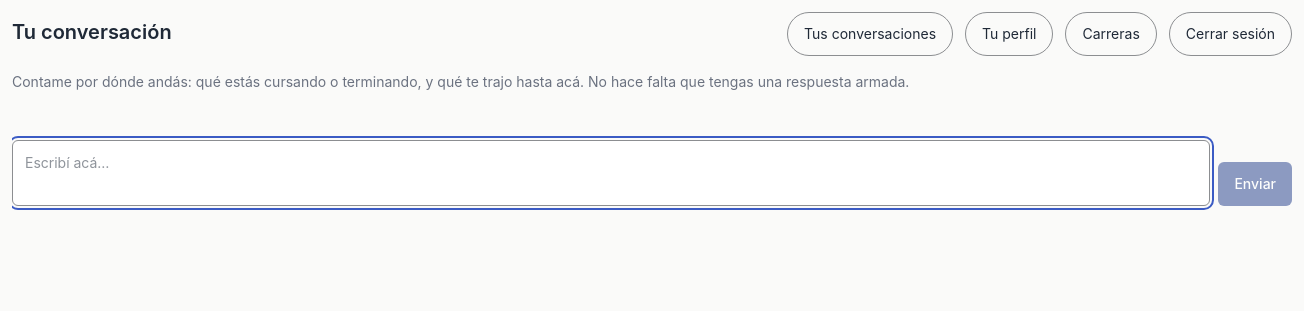
Conversacion · continuidad de la sesión (HU-07) › si la generación se corta, avisa y conserva lo que alcanzó a escribir
Step 1. Type "Hola" into the text box named "escribí tu mensaje" → (611,173), box [12, 140, 1210, 206]
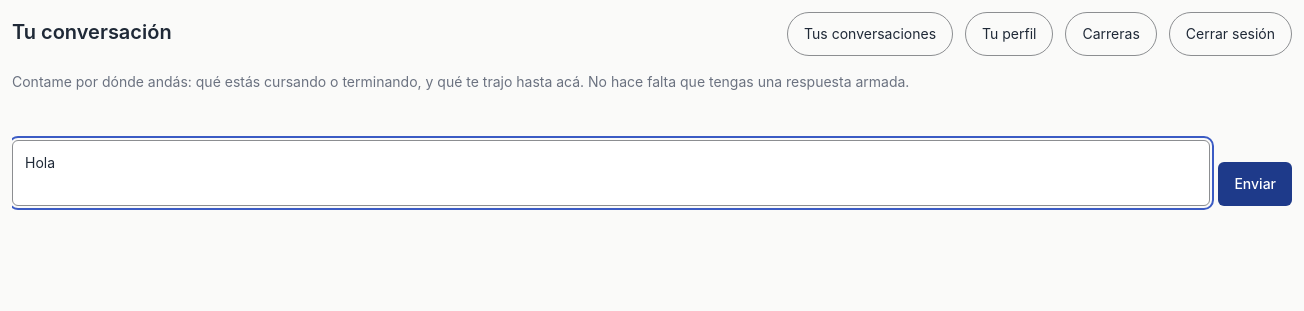
Step 2. Click the button "Enviar" → (1255,184), box [1218, 162, 1292, 206]
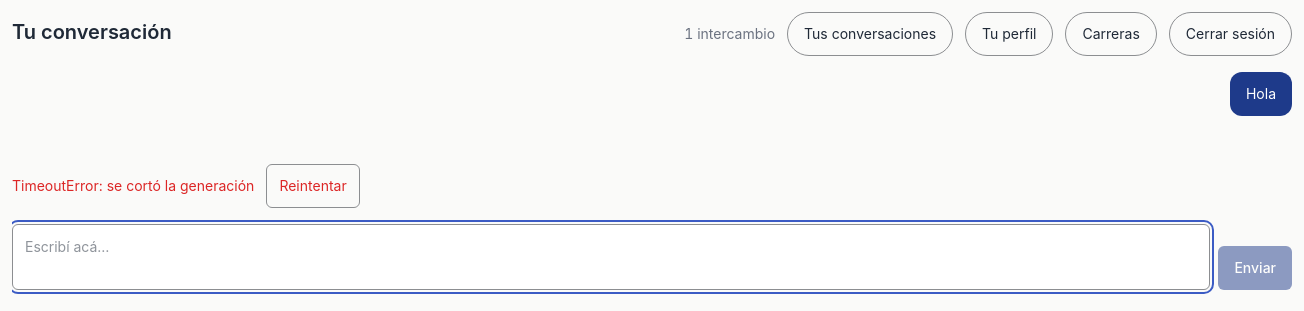
Now the message shows "se cortó la generación", box [12, 177, 254, 194]
